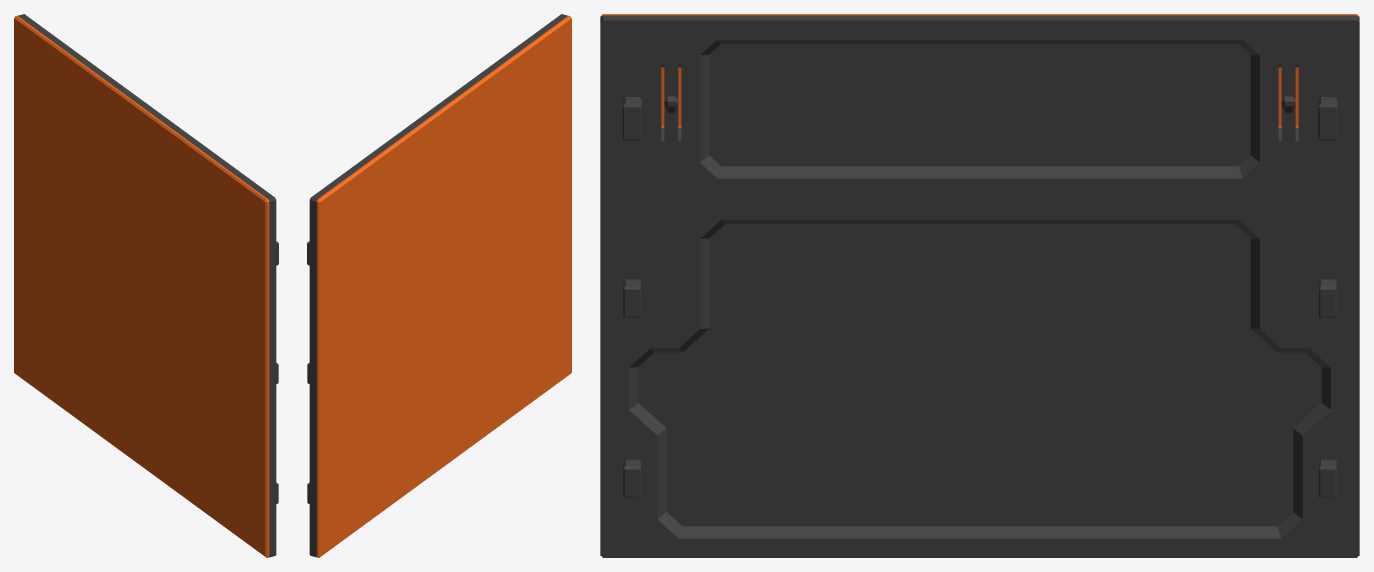
File: SideCover_115-15H.lib.glb
3 views of the same model, side by side, from view 1: azimuth 30°, elevation 25°; view 2: azimuth 150°, elevation 25°; view 3: azimuth 270°, elevation 25° (orthographic). The views are drawn at different scales.
Parts seen in each view (by area): view 1: SideCover_115-15H; view 2: SideCover_115-15H; view 3: SideCover_115-15H.
Part boxes in pixels (x1,y1,x2,y2): SideCover_115-15H: [14, 14, 278, 557]; SideCover_115-15H: [307, 14, 571, 557]; SideCover_115-15H: [600, 14, 1359, 557].
Size of the model in its own units: 5.05 by 83.61 by 107.
